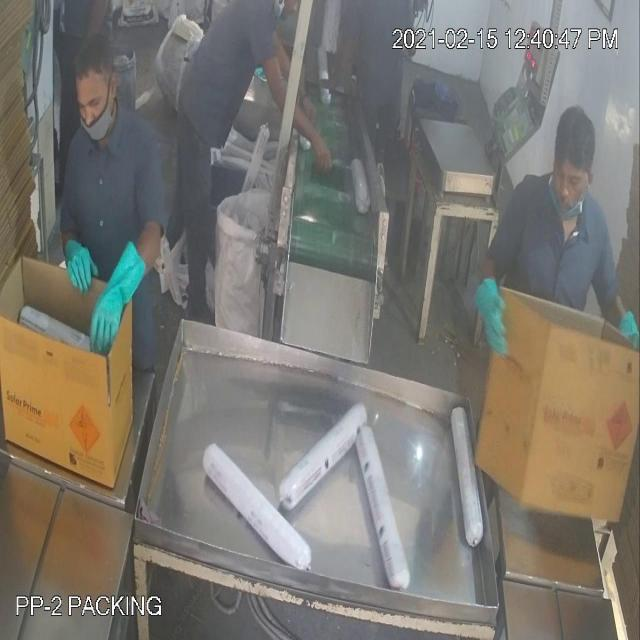No_Gloves: (50, 68, 492, 318)
